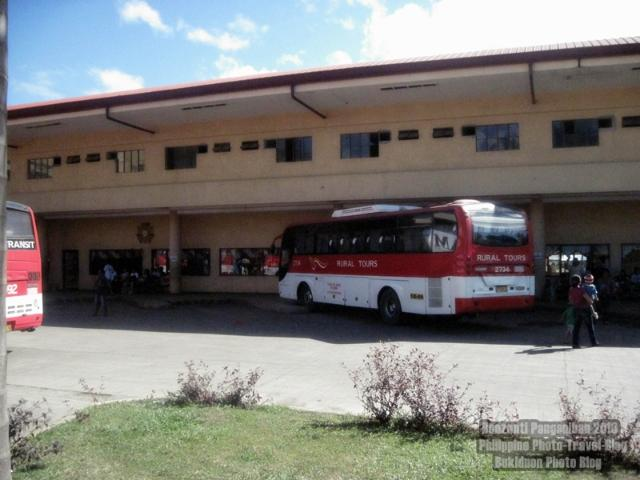bus: (274, 200, 532, 325)
